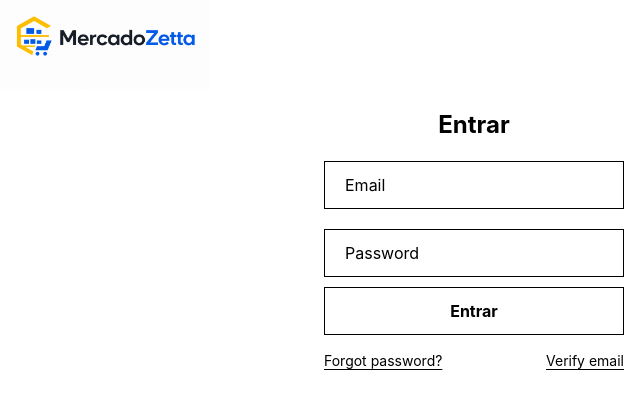
Scenario: Login › shows an error when login fails
Type "seller@example.com" into the field with placeholder "Email" at [474, 185], box [324,161,624,209]
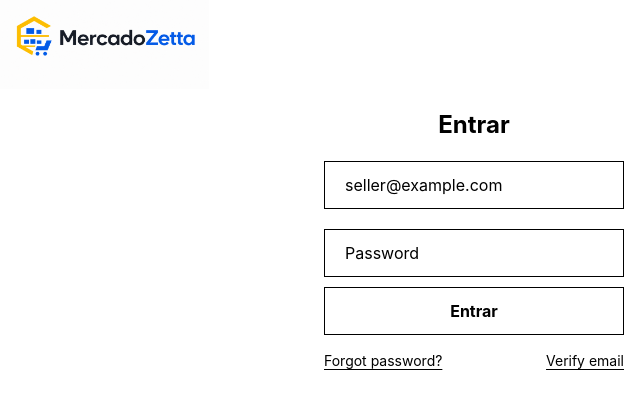
Type "wrong-password" into the password field with placeholder "Password" at [474, 253], box [324,229,624,277]
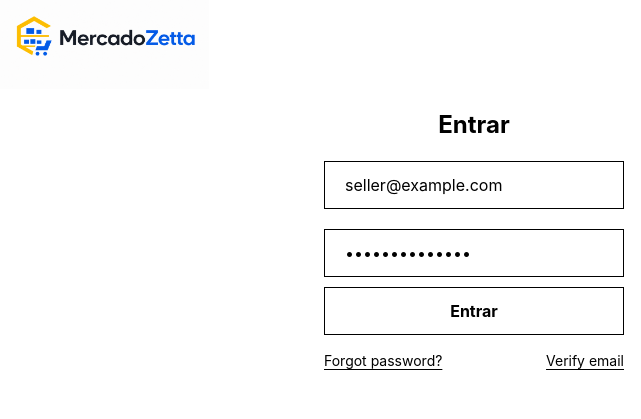
Click the button "Entrar" at [474, 311], box [324,287,624,335]
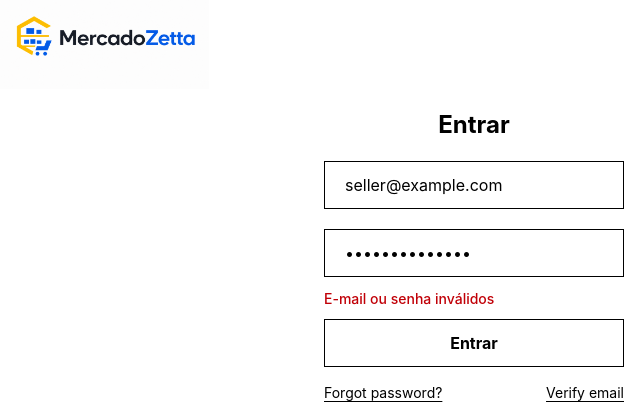
expect the message reads "E-mail ou senha inválidos": met, box [324,290,494,307]
